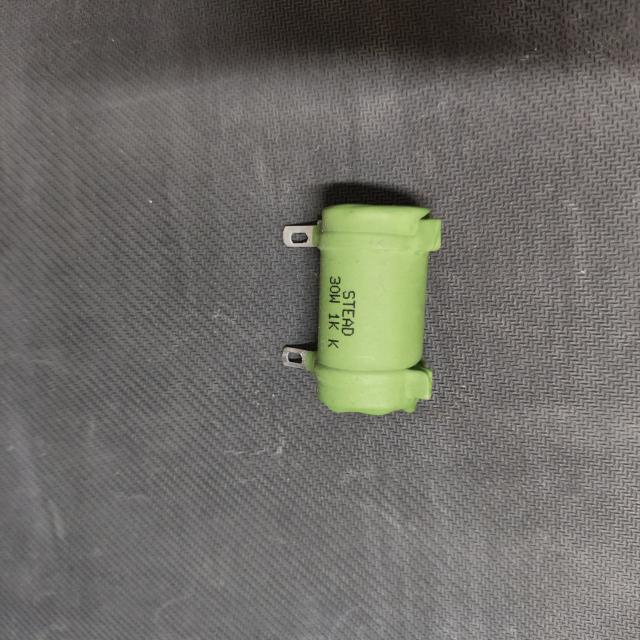resistor: (264, 189, 452, 421)
